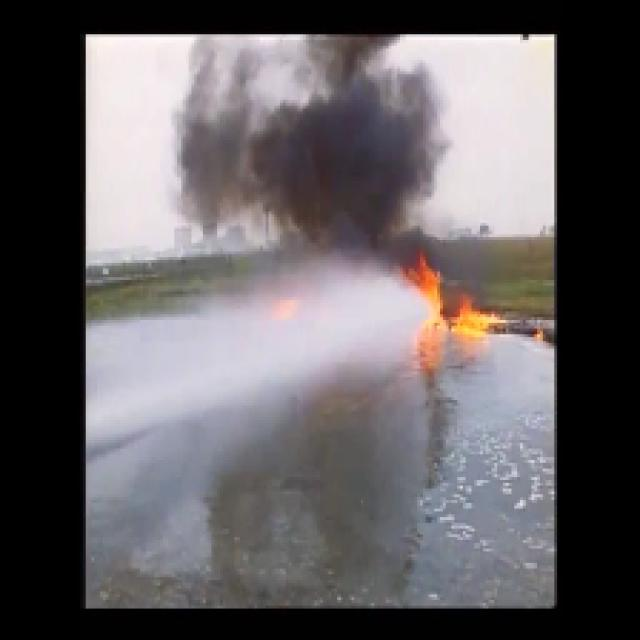smoke: (224, 111, 419, 217)
